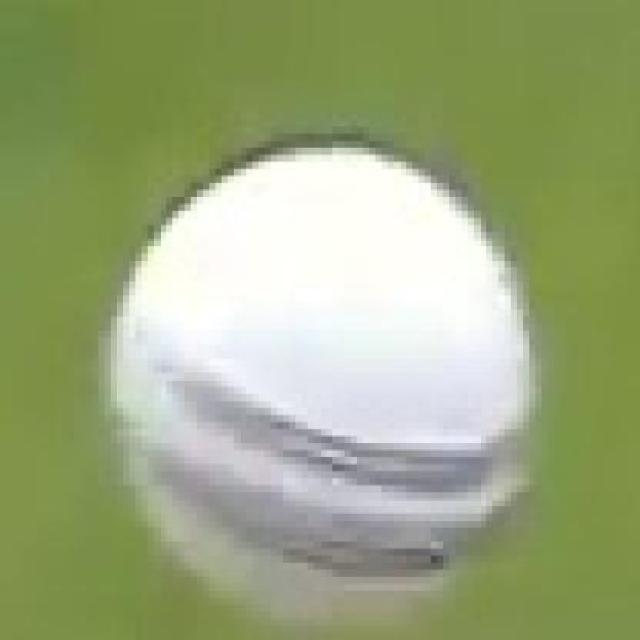Cricket ball: (97, 129, 548, 640)
